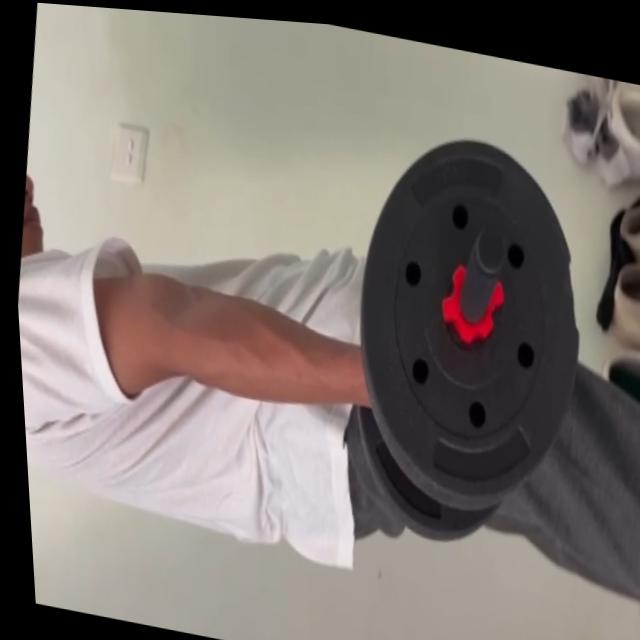dumbbell: (320, 112, 610, 565)
